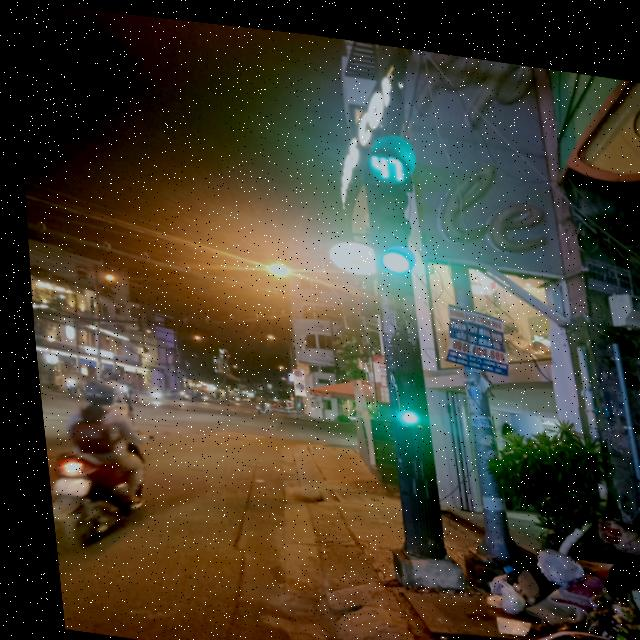Green: (347, 173, 420, 274), (369, 323, 427, 425)
